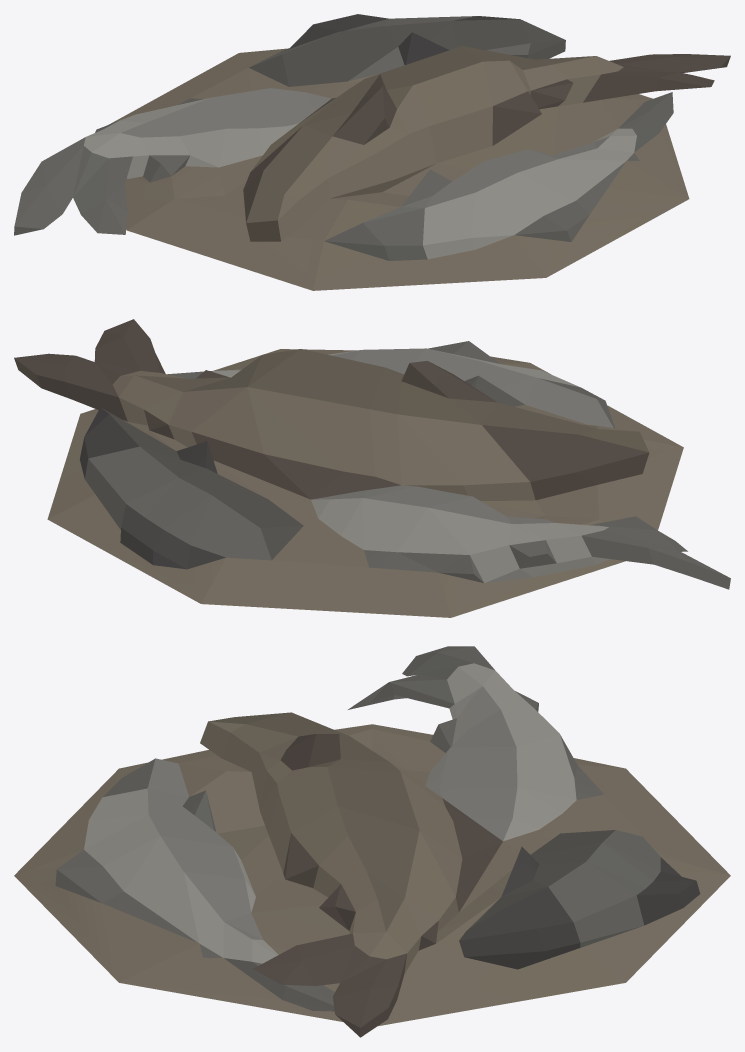
The model's file is samurai_SM_Prop_Basket_Insert_02.gltf.
3 renders of one model, top to bottom at view 1: azimuth 30°, elevation 25°; view 2: azimuth 150°, elevation 25°; view 3: azimuth 270°, elevation 25°, orthographic. The views are drawn at different scales.
Visible parts, largest first — view 1: SM_Prop_Basket_Insert_02; view 2: SM_Prop_Basket_Insert_02; view 3: SM_Prop_Basket_Insert_02.
Boxes of the visible parts, left/top/right/bottom form: SM_Prop_Basket_Insert_02: left=14, top=14, right=730, bottom=290; SM_Prop_Basket_Insert_02: left=14, top=319, right=730, bottom=617; SM_Prop_Basket_Insert_02: left=14, top=646, right=730, bottom=1037.
Size of the model in its own units: 0.7141 by 0.1068 by 0.5488.
1 material, 1 textured.
